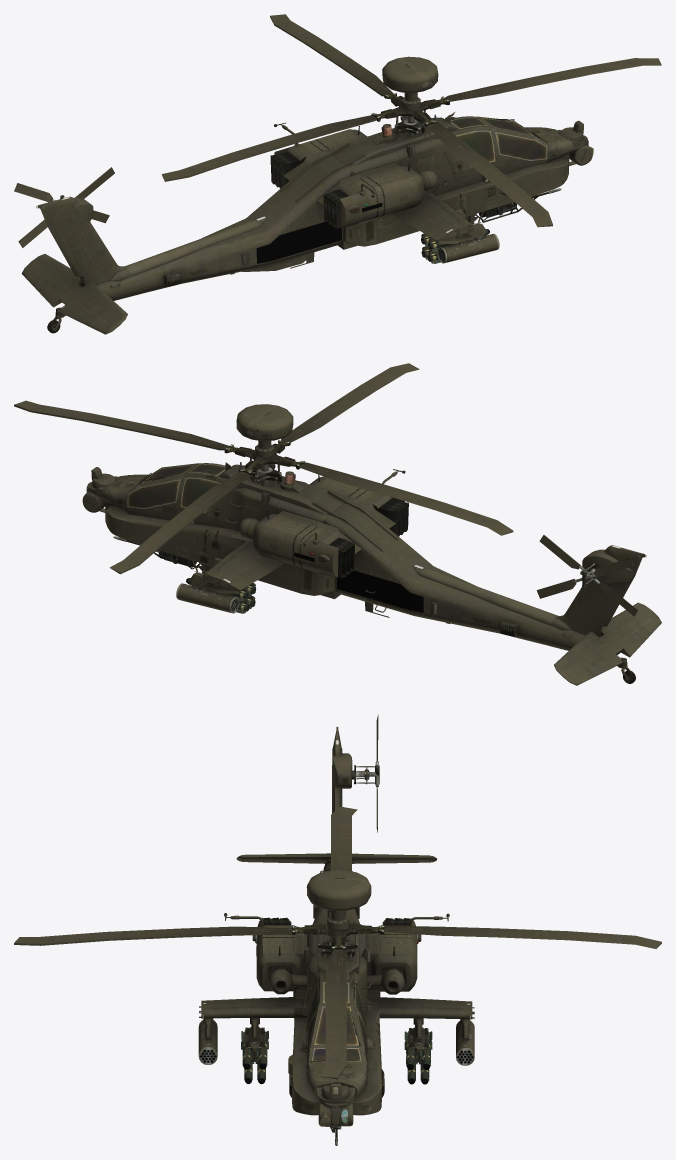
The model's file is heli.glb.
The picture shows the model from 3 angles, top to bottom: view 1: azimuth 30°, elevation 25°; view 2: azimuth 150°, elevation 25°; view 3: azimuth 270°, elevation 25°; orthographic projection. The views are drawn at different scales.
Parts seen in each view (by area): view 1: heli_body, heli_rotor; view 2: heli_body, heli_rotor, heli_tail; view 3: heli_body, heli_rotor, heli_tail.
Boxes of the visible parts, <box> form: heli_body: <box>14,56,593,334</box>; heli_rotor: <box>161,14,661,227</box>; heli_body: <box>82,404,661,685</box>; heli_rotor: <box>14,363,512,573</box>; heli_tail: <box>582,549,634,582</box>; heli_body: <box>198,714,661,1145</box>; heli_rotor: <box>14,806,661,1079</box>; heli_tail: <box>332,753,352,788</box>.
Size of the model in its own units: 17.5 by 4.78 by 13.71.
Materials: 6 (4 with a texture image).
